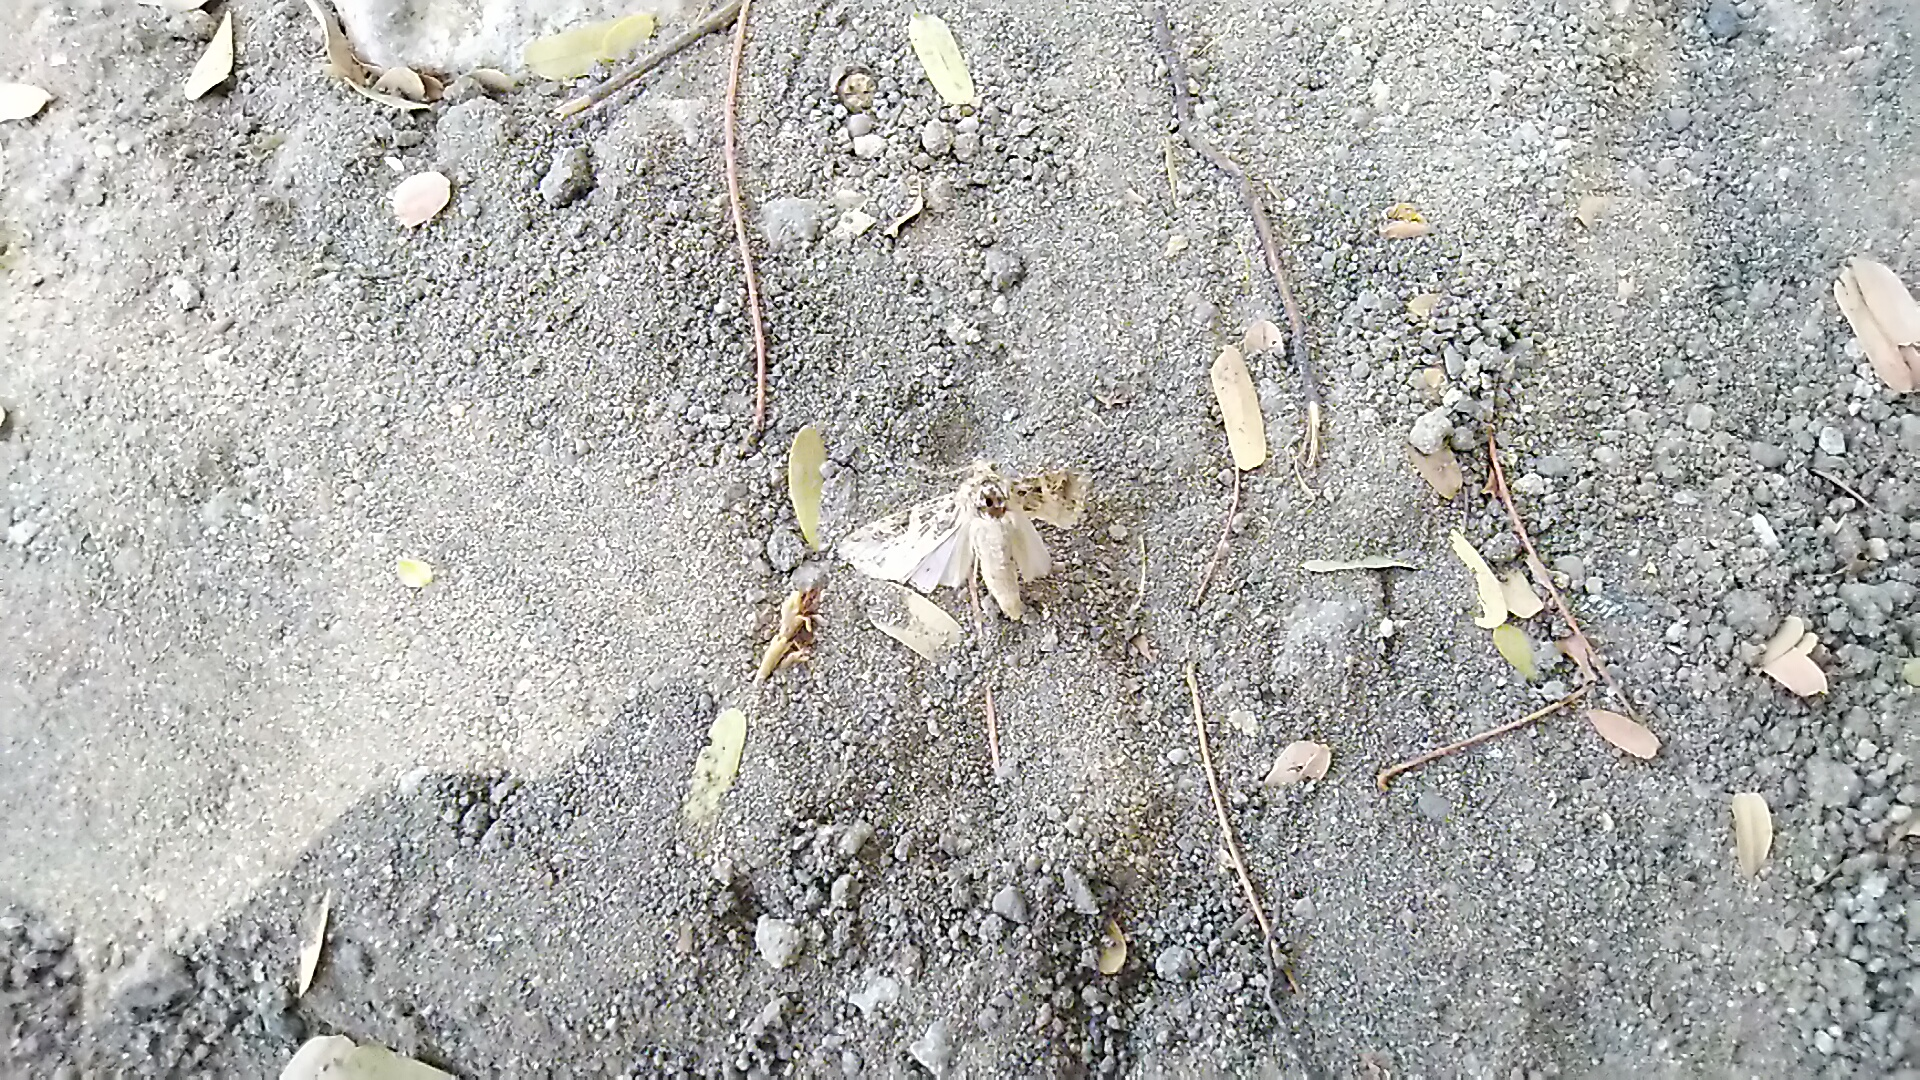INS-B: (837, 450, 1108, 618)
